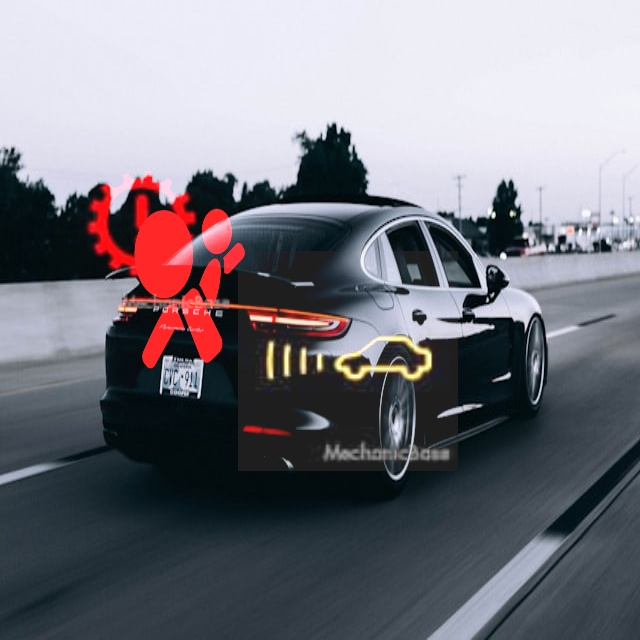symbol: (238, 251, 458, 471), (76, 177, 289, 390), (48, 129, 237, 318)
